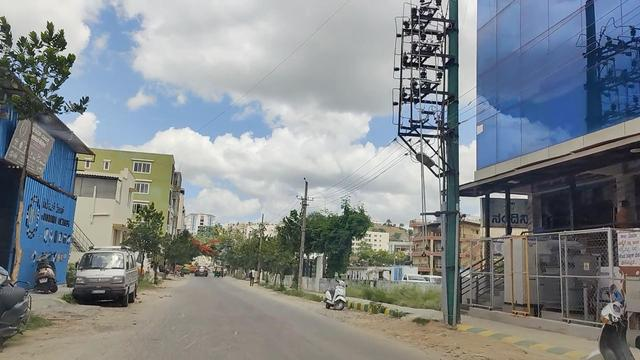LMV: (75, 247, 128, 299), (326, 281, 347, 307)
